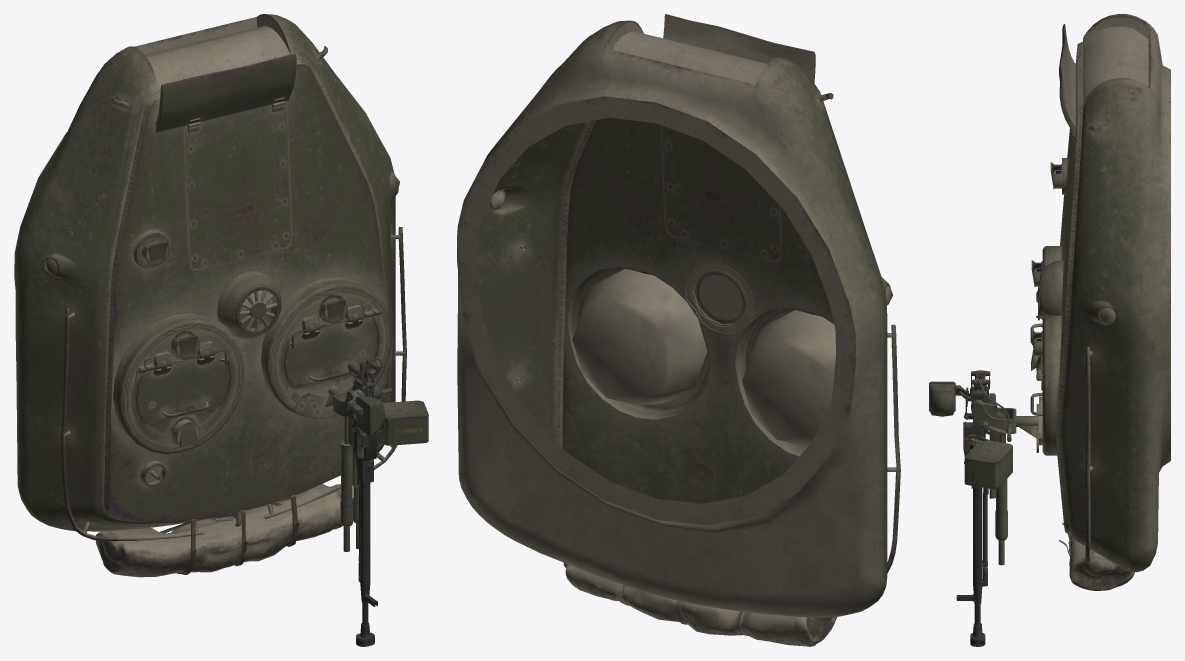
Rendered from Turret_01.glb.
3 views of the same model, side by side, from view 1: azimuth 30°, elevation 25°; view 2: azimuth 150°, elevation 25°; view 3: azimuth 270°, elevation 25° (orthographic). The views are drawn at different scales.
Parts seen in each view (by area): view 1: set_0_group_0; view 2: set_0_group_0; view 3: set_0_group_0.
Part boxes in pixels (<box>): set_0_group_0: <box>14,14,428,646</box>; set_0_group_0: <box>457,14,900,646</box>; set_0_group_0: <box>929,14,1170,646</box>.
Bounding box in the file's own units: 2.35 × 3.48 × 1.37.
Materials: 1 (1 with a texture image).
